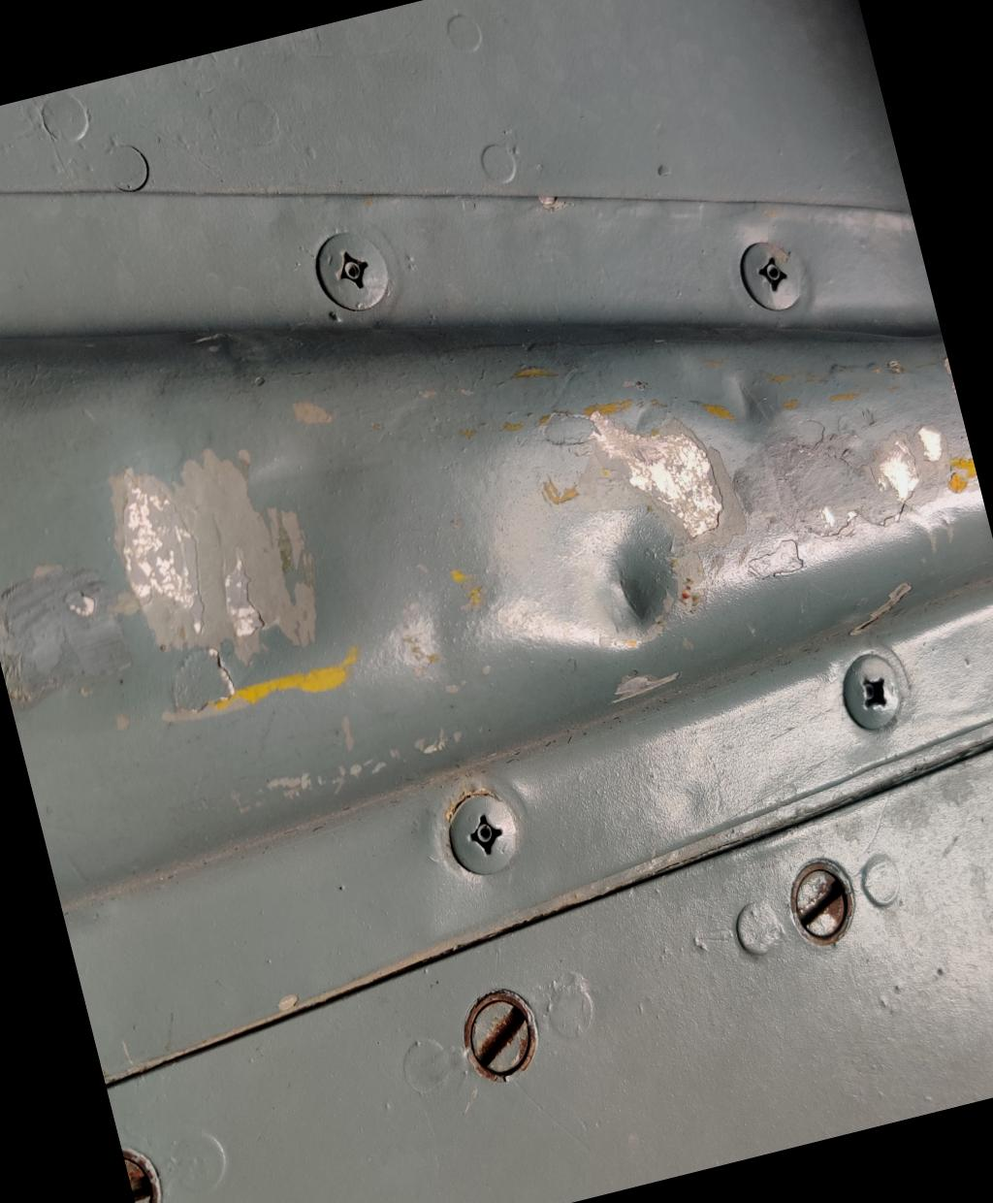corrosion: (55, 384, 376, 737)
dent: (470, 431, 750, 734)
